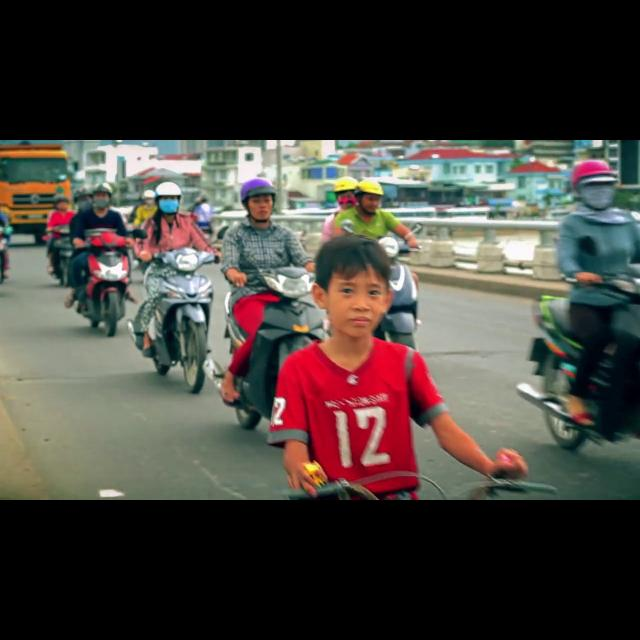motorcycle: (517, 296, 639, 450), (233, 267, 327, 429), (149, 248, 217, 393), (77, 228, 129, 336), (374, 236, 421, 348), (52, 225, 73, 285), (0, 236, 7, 283)
truck: (0, 144, 71, 243)
